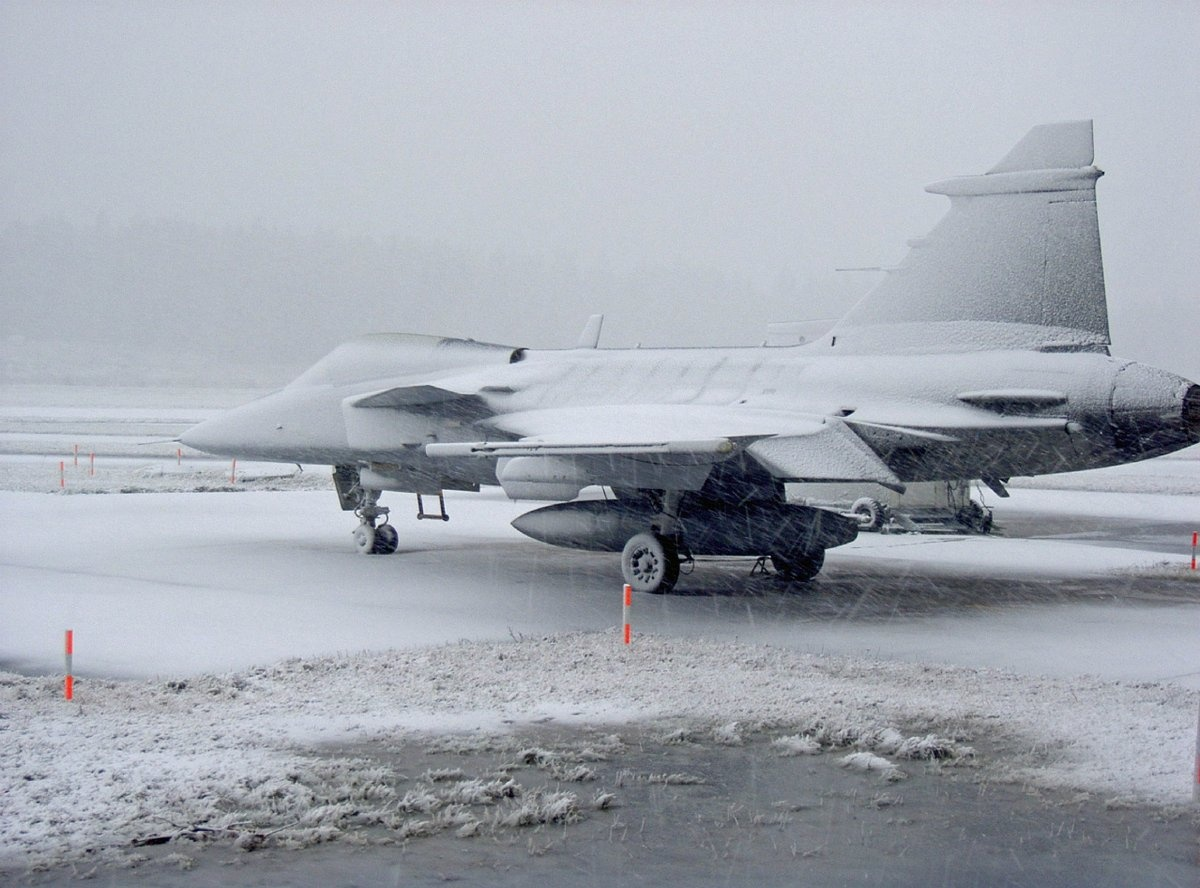JAS39: (137, 118, 1200, 594)
